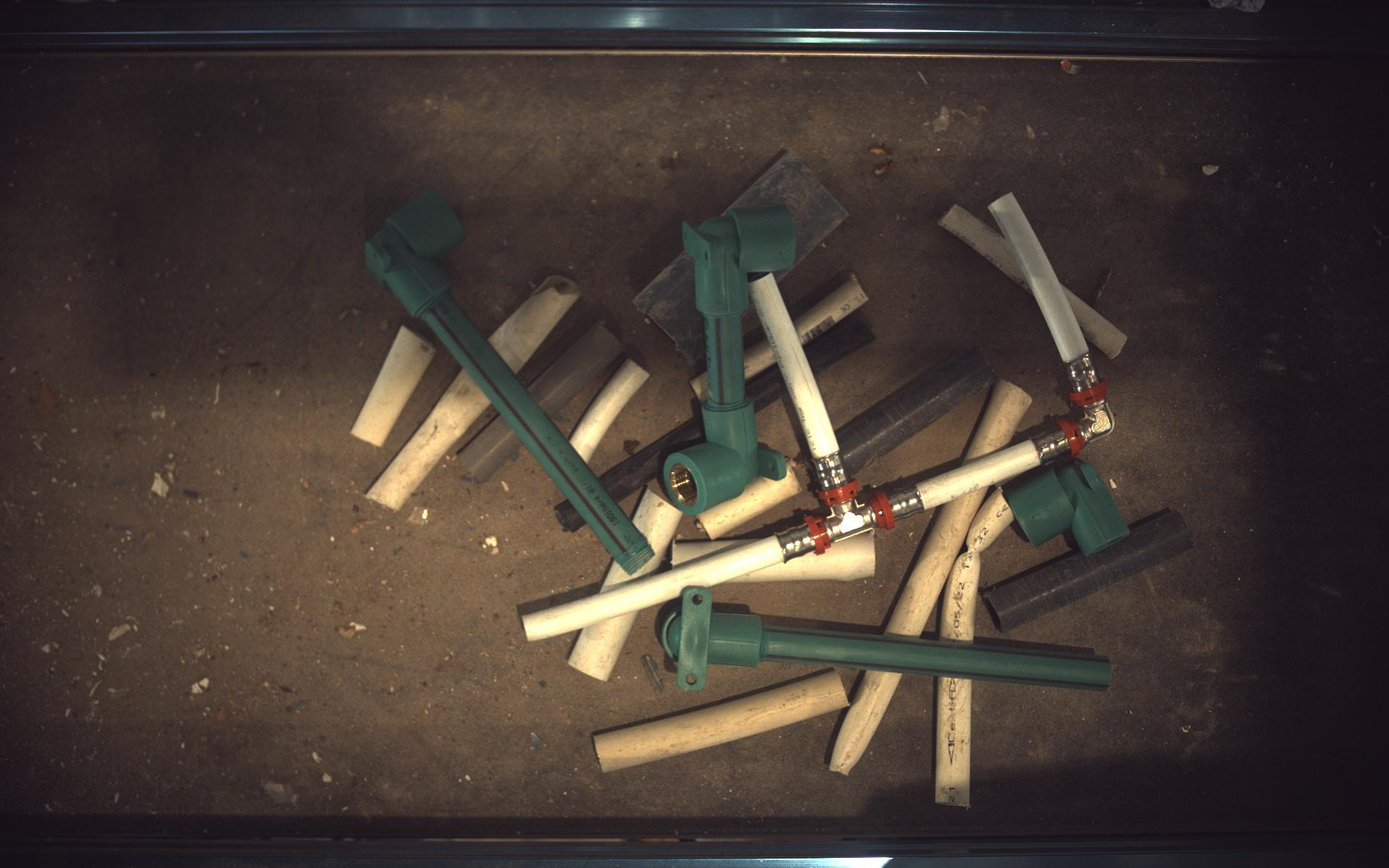pipes: (524, 194, 1117, 642), (365, 189, 654, 574), (664, 206, 797, 515), (594, 671, 851, 774), (984, 509, 1194, 633), (838, 347, 995, 477), (366, 367, 490, 509), (888, 490, 987, 637), (730, 149, 850, 261), (365, 189, 465, 316), (1006, 460, 1133, 556), (943, 490, 1016, 642), (350, 326, 436, 447), (600, 407, 704, 501), (488, 276, 581, 372), (601, 488, 683, 592), (529, 323, 621, 414), (570, 359, 650, 462), (697, 463, 802, 540), (634, 252, 705, 365), (940, 203, 1031, 291), (831, 672, 904, 776), (730, 533, 877, 584), (966, 380, 1034, 462), (794, 274, 870, 344), (937, 678, 974, 809), (569, 613, 638, 682), (1066, 287, 1130, 359), (807, 315, 876, 374), (459, 417, 521, 482), (672, 541, 749, 566), (748, 366, 787, 413), (745, 339, 778, 379), (556, 501, 586, 532), (691, 373, 709, 401)
